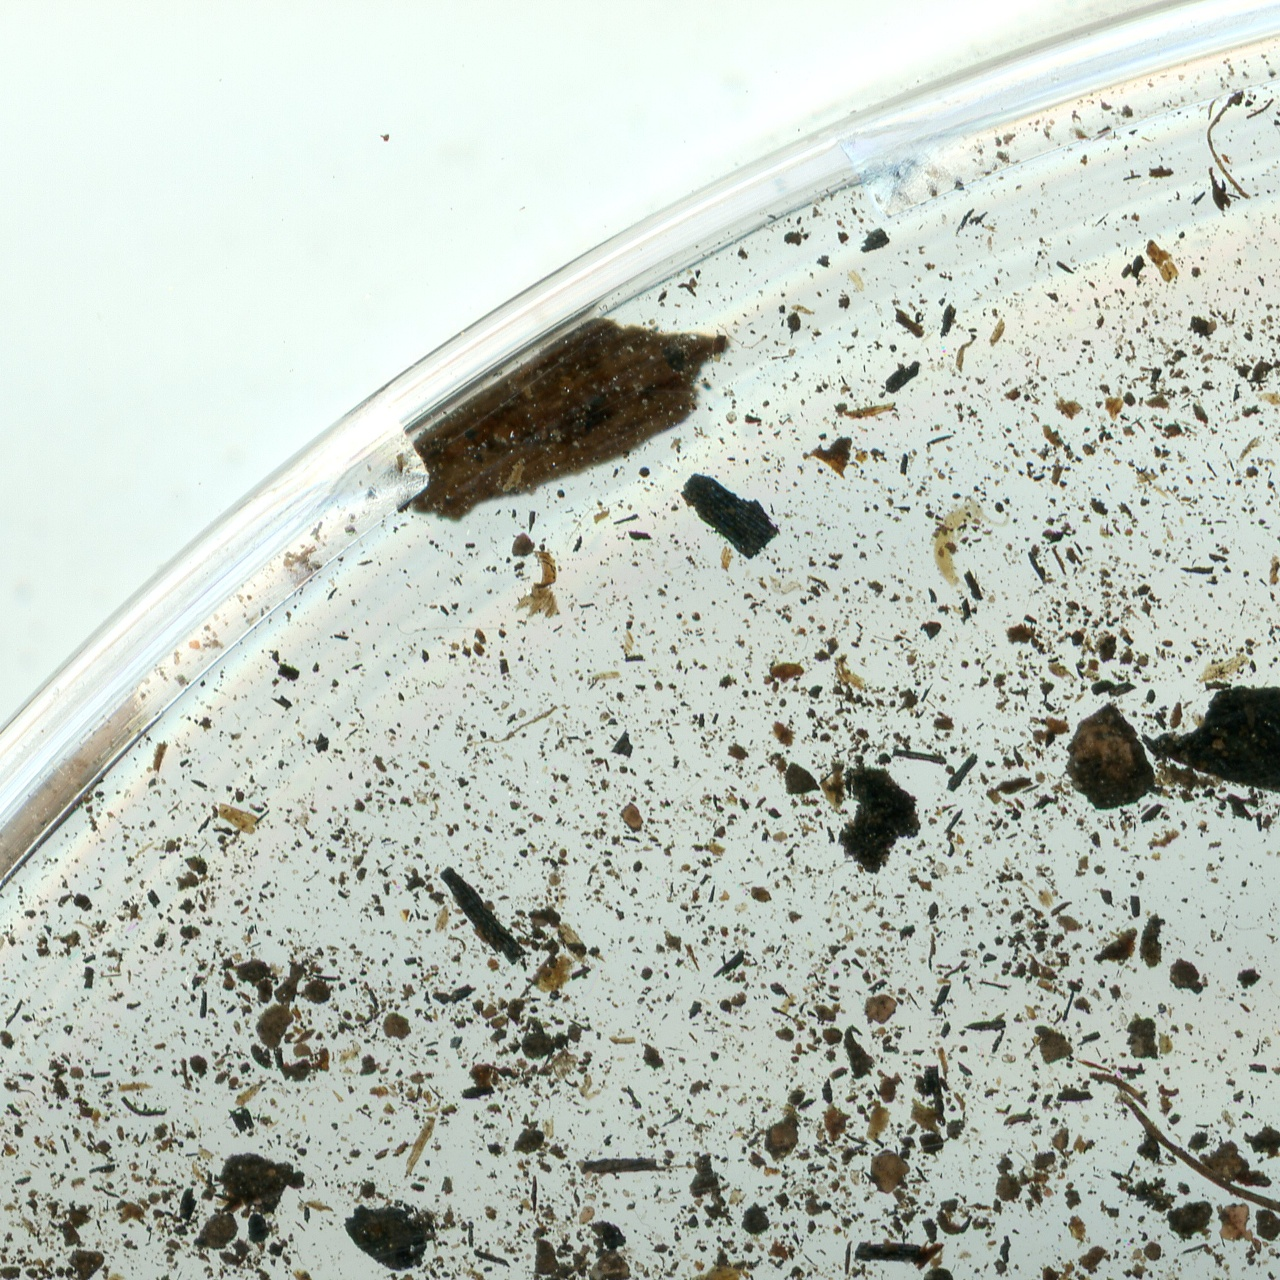arthropod: (931, 491, 1013, 606)
